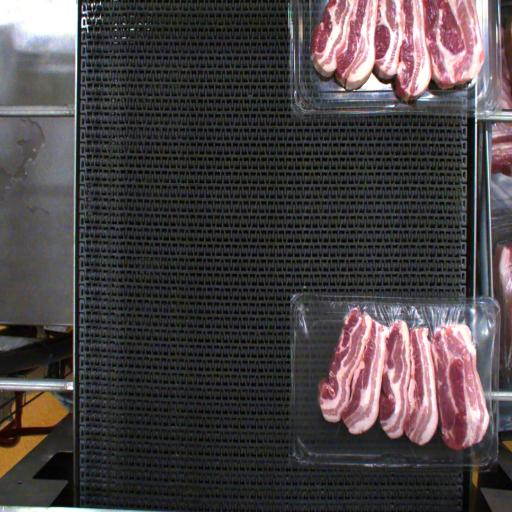unsealed: (300, 303, 494, 397)
